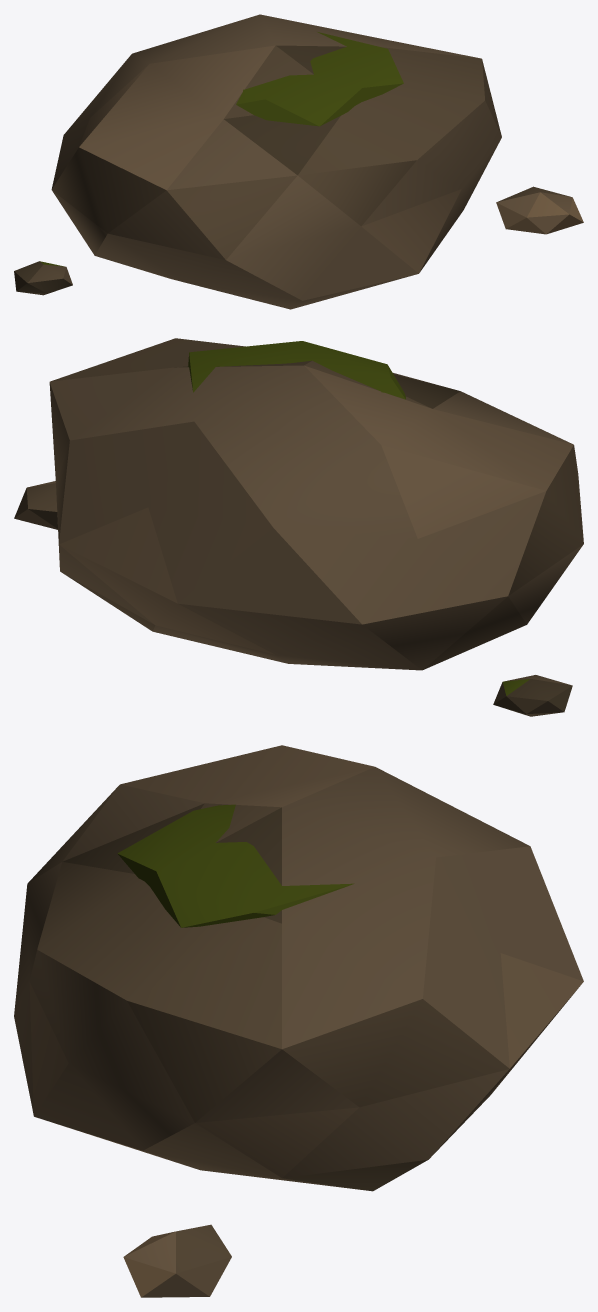
File: bg_desert_rock_1_lod2.glb
3 views of the same model, one above another, from view 1: azimuth 30°, elevation 25°; view 2: azimuth 150°, elevation 25°; view 3: azimuth 270°, elevation 25° (orthographic). The views are drawn at different scales.
Visible parts, largest first — view 1: body; view 2: body; view 3: body.
Part boxes in pixels (bbox=[...]): body: bbox=[14, 14, 583, 309]; body: bbox=[14, 338, 583, 716]; body: bbox=[14, 745, 583, 1297].
Size of the model in its own units: 3.08 by 1.4 by 2.08.
